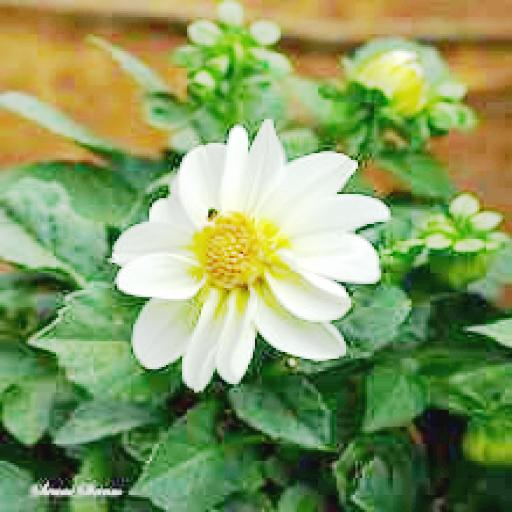daisy: (154, 156, 376, 371)
